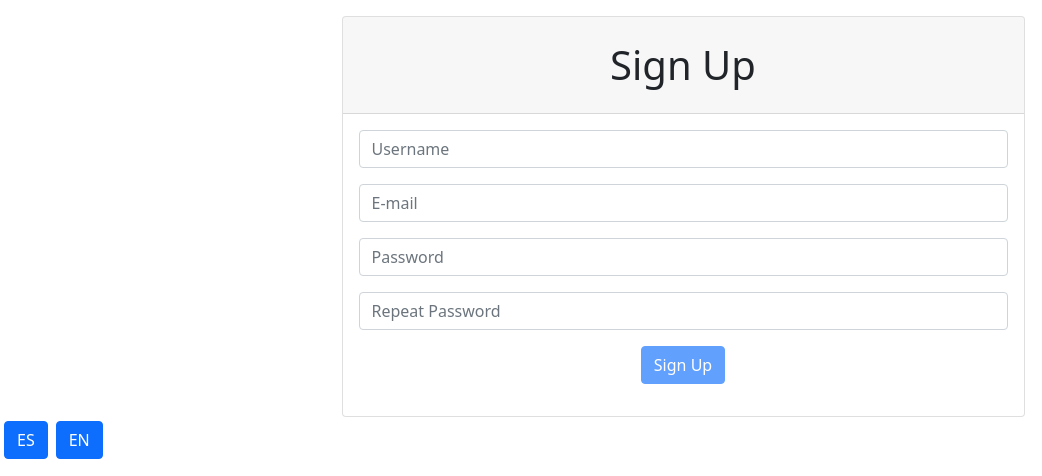
Test: Sign Up Page › Internationalization › Initially displays all text in Spanish after change the language
Click the button titled "español": [26, 440] box [4,421,48,459]
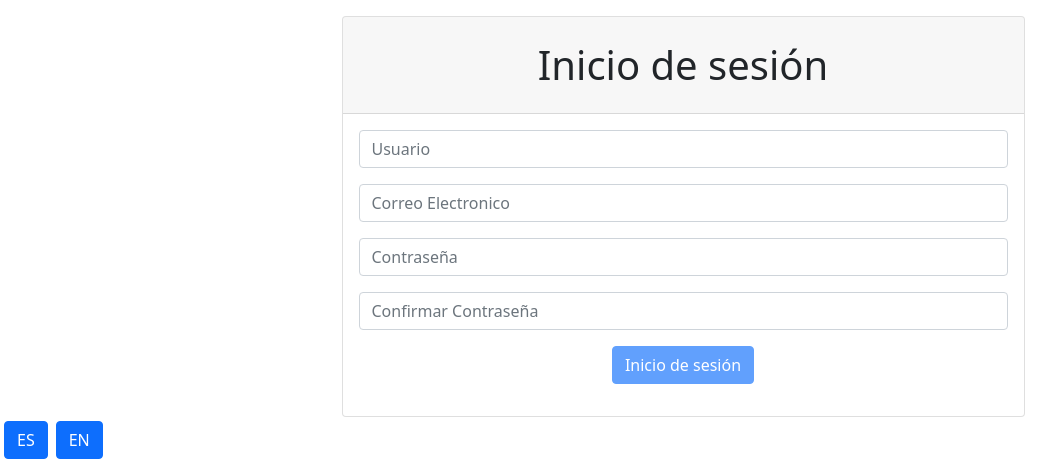
Expected: the heading "Inicio de sesión" is shown, [538,37,828,92]
Expected: the button "Inicio de sesión" is shown, [612,346,754,384]
Expected: the field with placeholder "Usuario" is shown, [358,130,1008,168]
